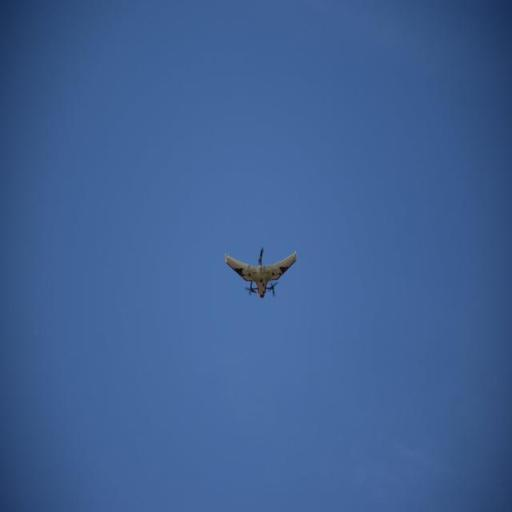uav: (219, 240, 302, 312)
